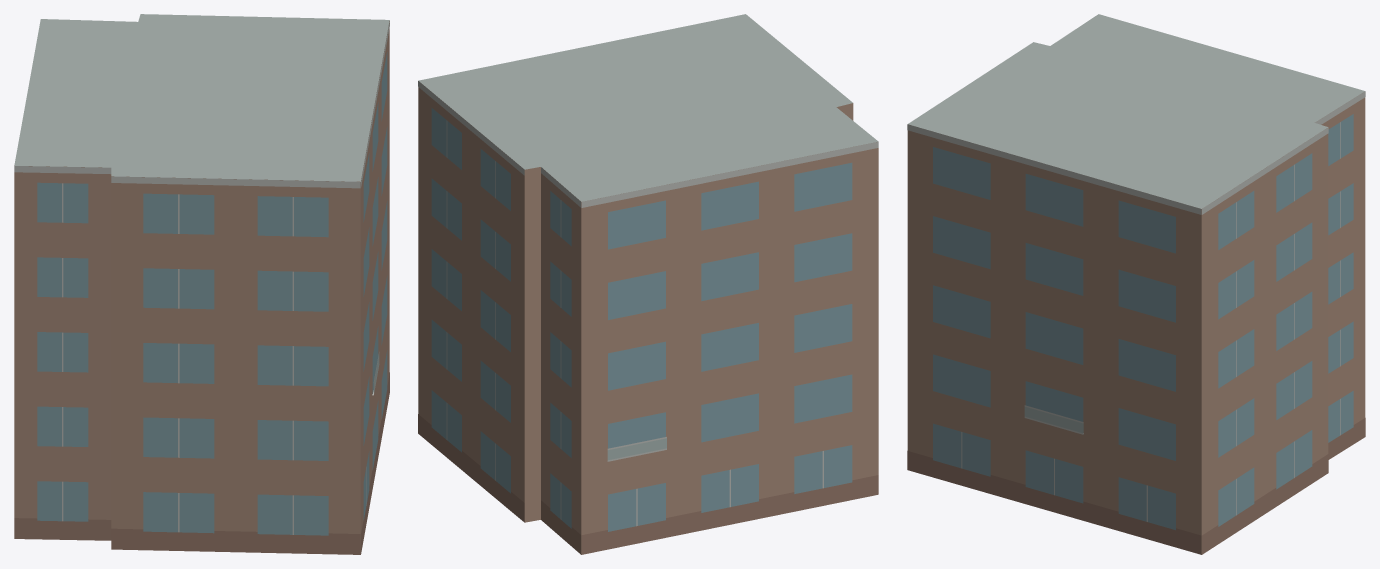
File: survey-upis-32977547.glb
3 renders of one model, left to right at view 1: azimuth 30°, elevation 25°; view 2: azimuth 150°, elevation 25°; view 3: azimuth 270°, elevation 25°, orthographic. The views are drawn at different scales.
Parts seen in each view (by area): view 1: survey-upis-32977547.tmp; view 2: survey-upis-32977547.tmp; view 3: survey-upis-32977547.tmp.
Part boxes in pixels (<box>): survey-upis-32977547.tmp: <box>14,14,389,554</box>; survey-upis-32977547.tmp: <box>418,14,878,554</box>; survey-upis-32977547.tmp: <box>907,14,1365,554</box>.
Bounding box in the file's own units: 16.82 × 13.9 × 16.69.
